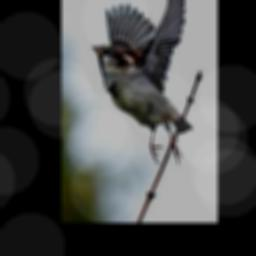Sparrow: (92, 0, 192, 163)
